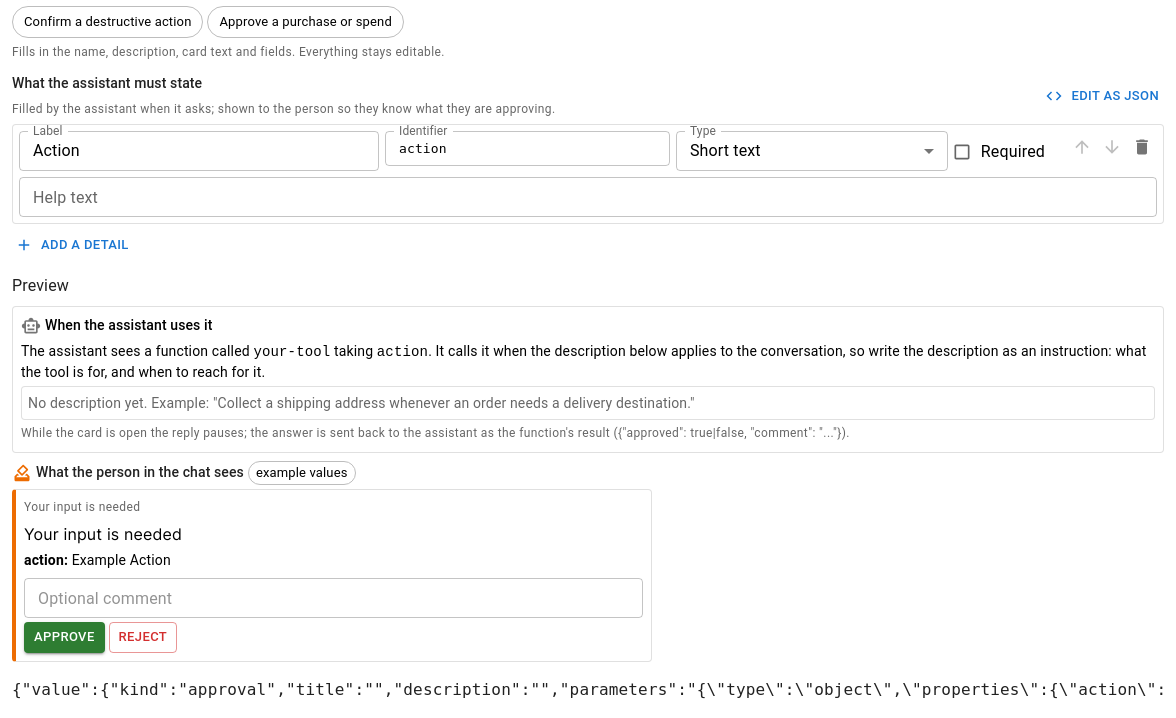
ClientToolEditor › shows what the assistant receives when the preview is answered
This screenshot has width=1176, height=718.
(page scrolled)
What coordinates should you click on to do the following:
click the button "Approve"
I would click on:
 (64, 638)
Its box is top-left (24, 622), bottom-right (105, 653).
(page scrolled)
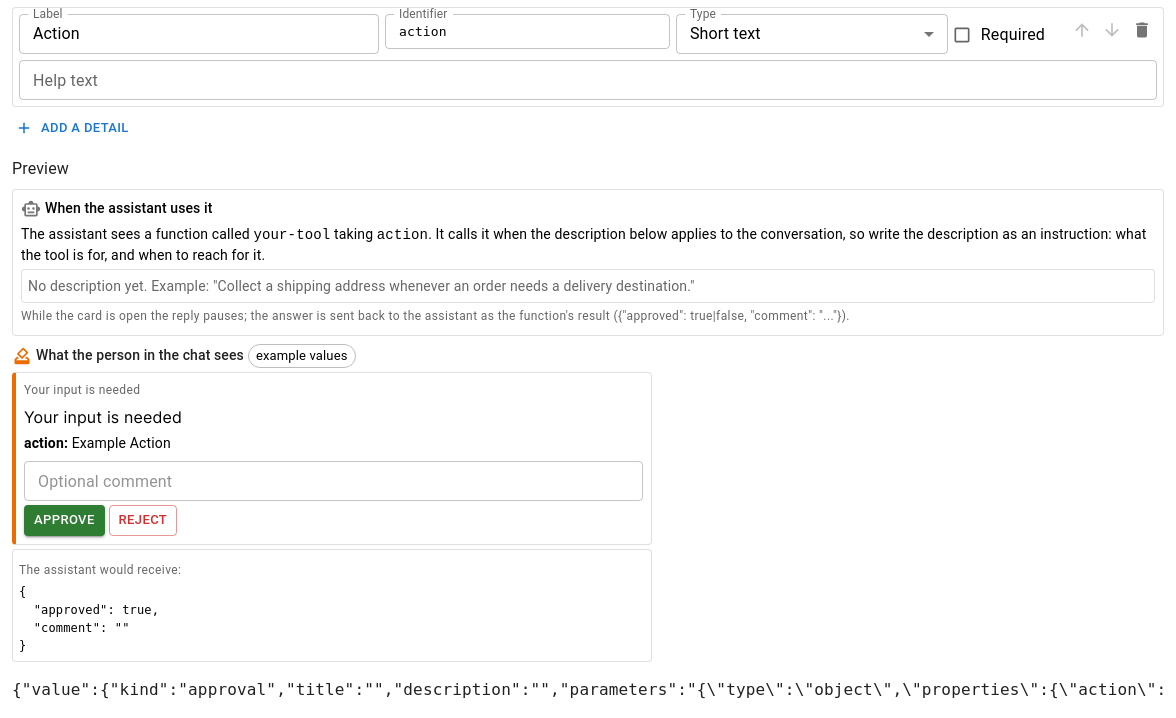
Now the element with test id "client-tool-preview-answer" shows "\"approved\": true", box top-left (19, 585), bottom-right (159, 653)
